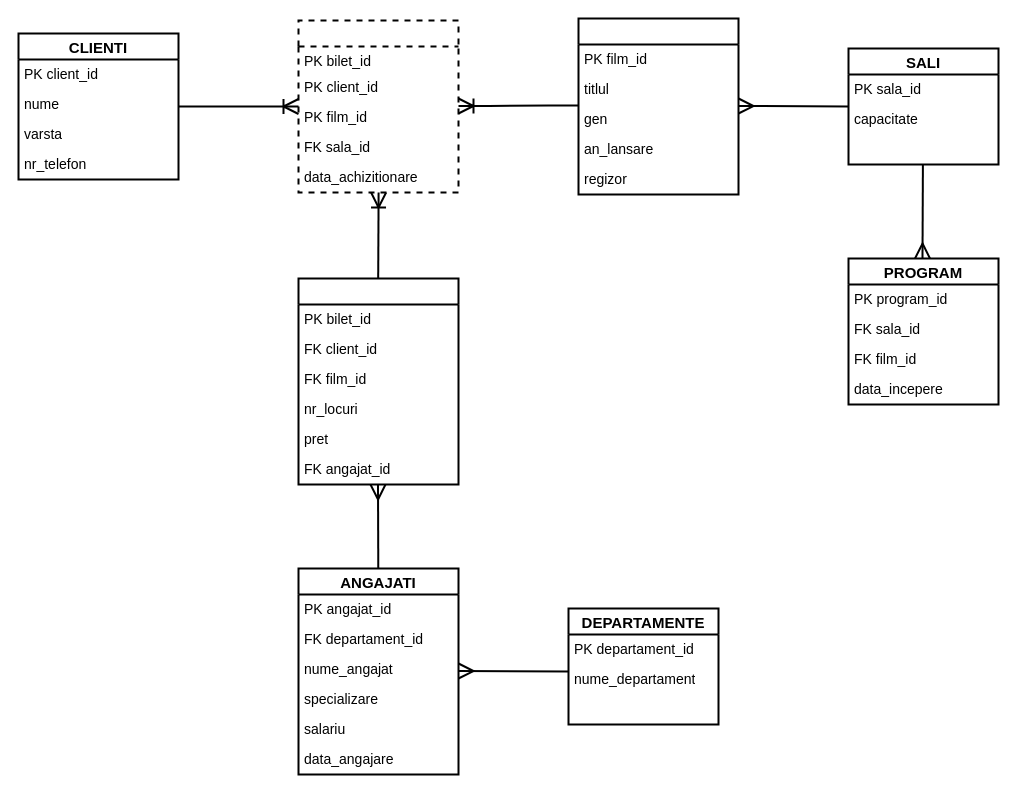
The diagram is 1016 pixels wide and 794 high, and some of its shapes have lost their labels. Each missing label, with the box of its shape:
BILETE: (297, 277, 459, 485)
FILME: (577, 17, 739, 195)
REZERVARI: (297, 19, 459, 193)
